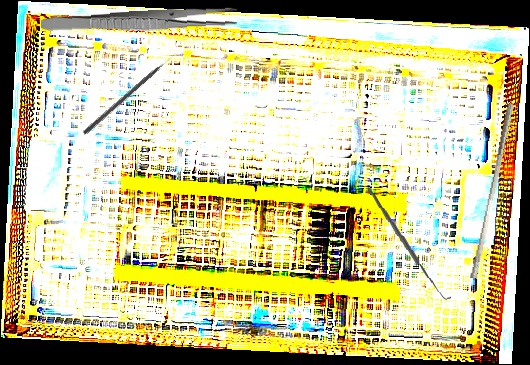Dressing Forceps: (40, 5, 238, 38)
Hook Surgical: (366, 181, 452, 305)
Pusher: (81, 51, 179, 137), (469, 102, 515, 280)
